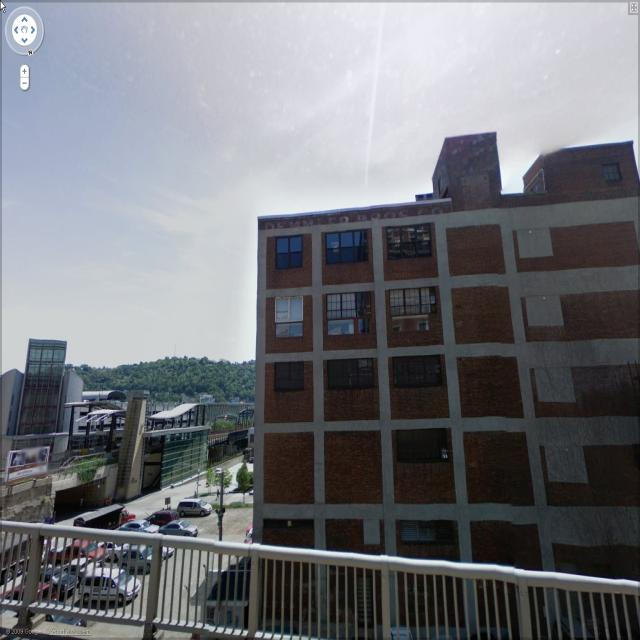b_1: (256, 149, 638, 581), (20, 336, 70, 444)
